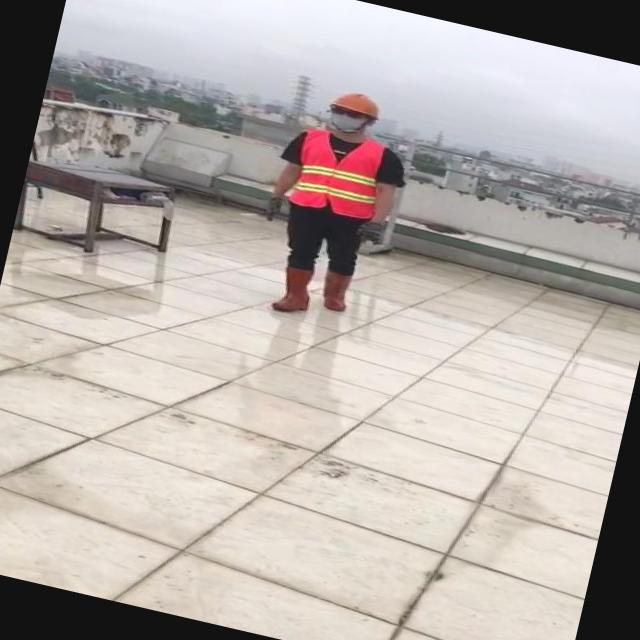boots: (264, 262, 316, 316), (318, 269, 352, 312)
helmet: (327, 85, 388, 120)
vest: (287, 124, 392, 224)
